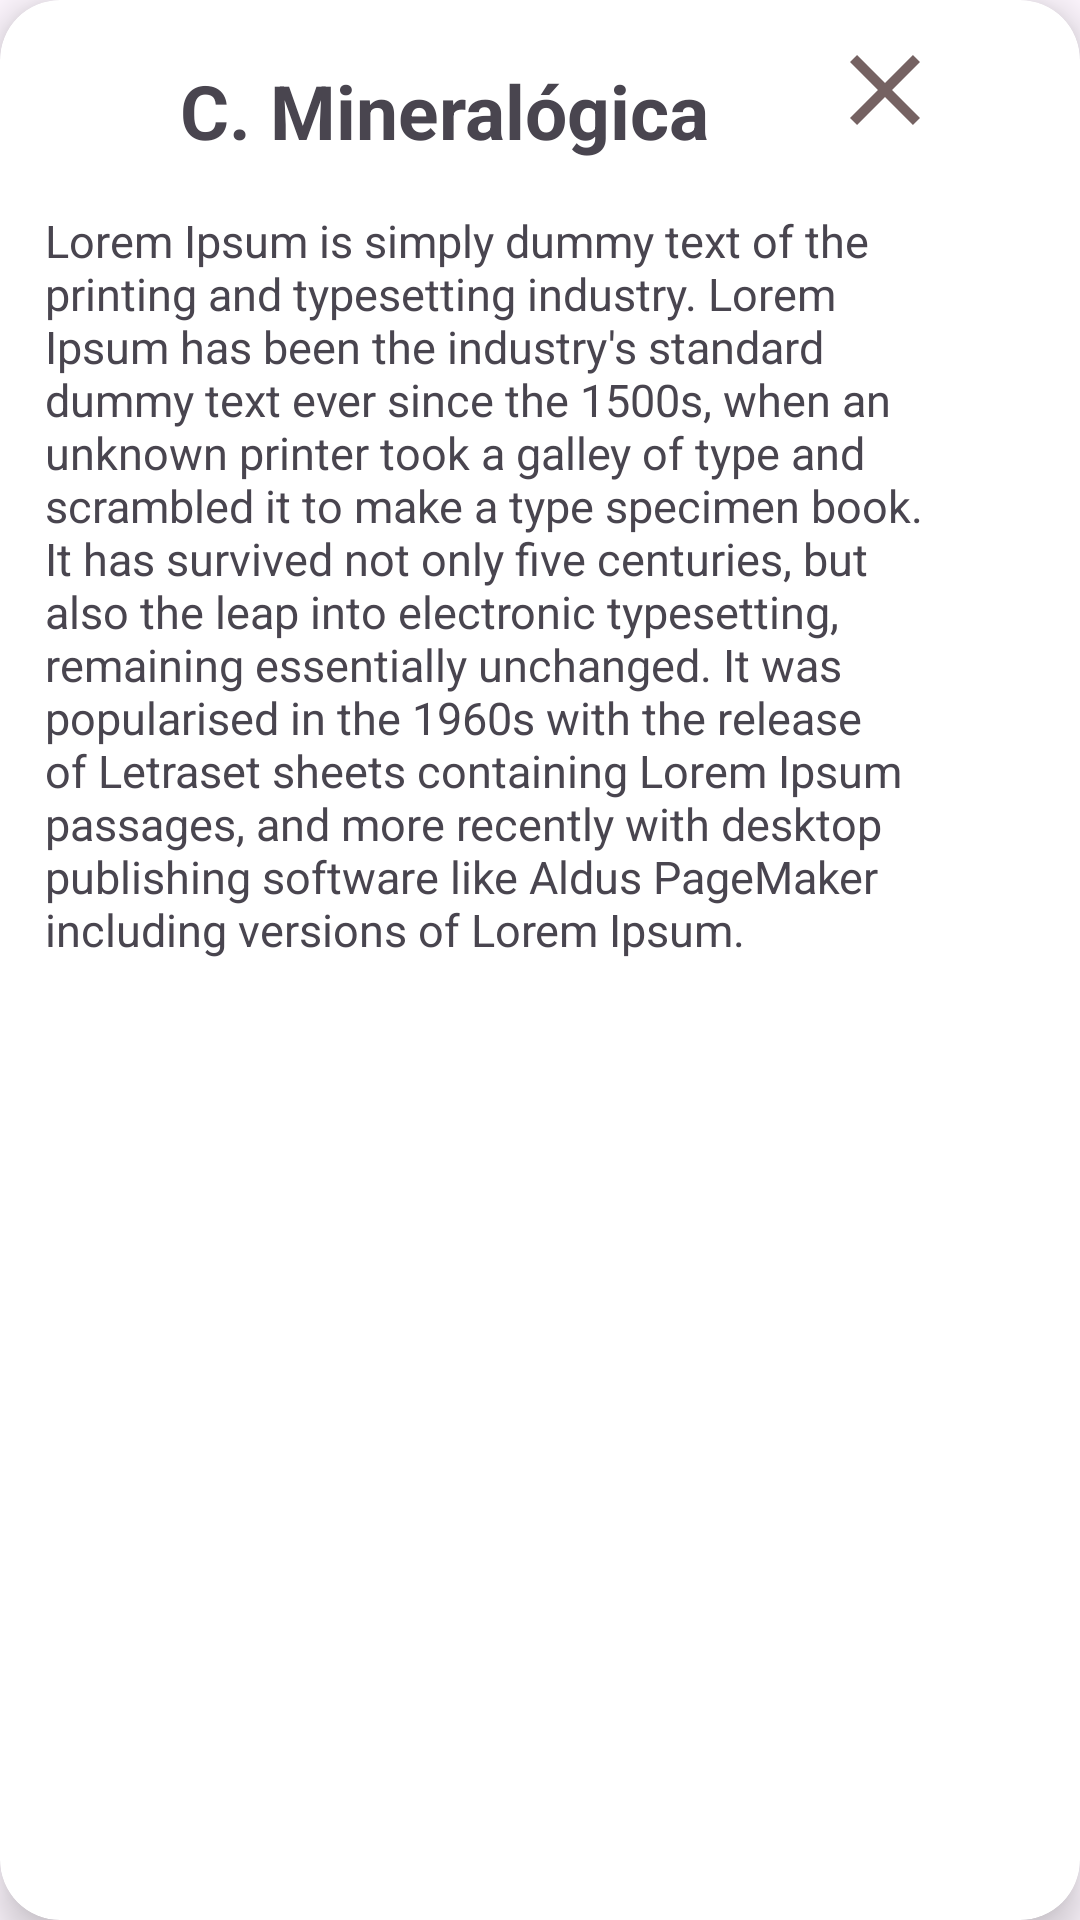

Screen size 1080×1920. Icon name, then its center in pixels as point (x, y):
fechar: point (885, 90)
